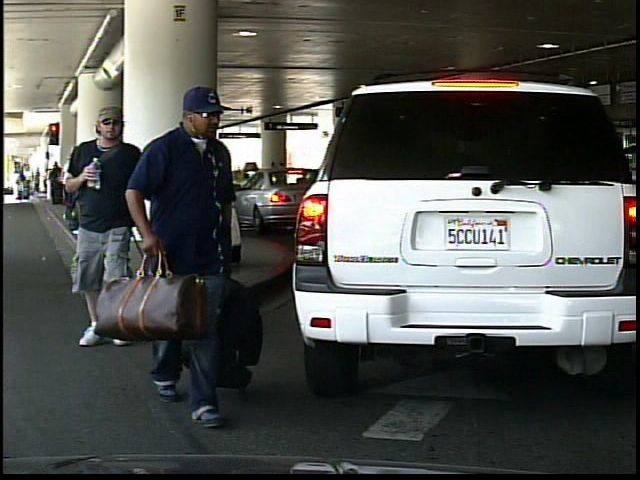person: (141, 77, 262, 423), (66, 100, 160, 357), (163, 131, 223, 268)
